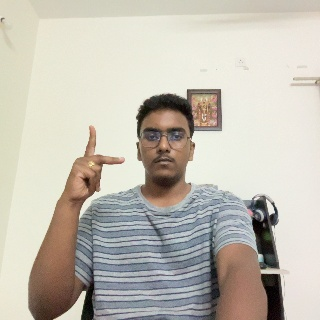Face: (138, 104, 197, 192)
Okay: (60, 123, 125, 211)
